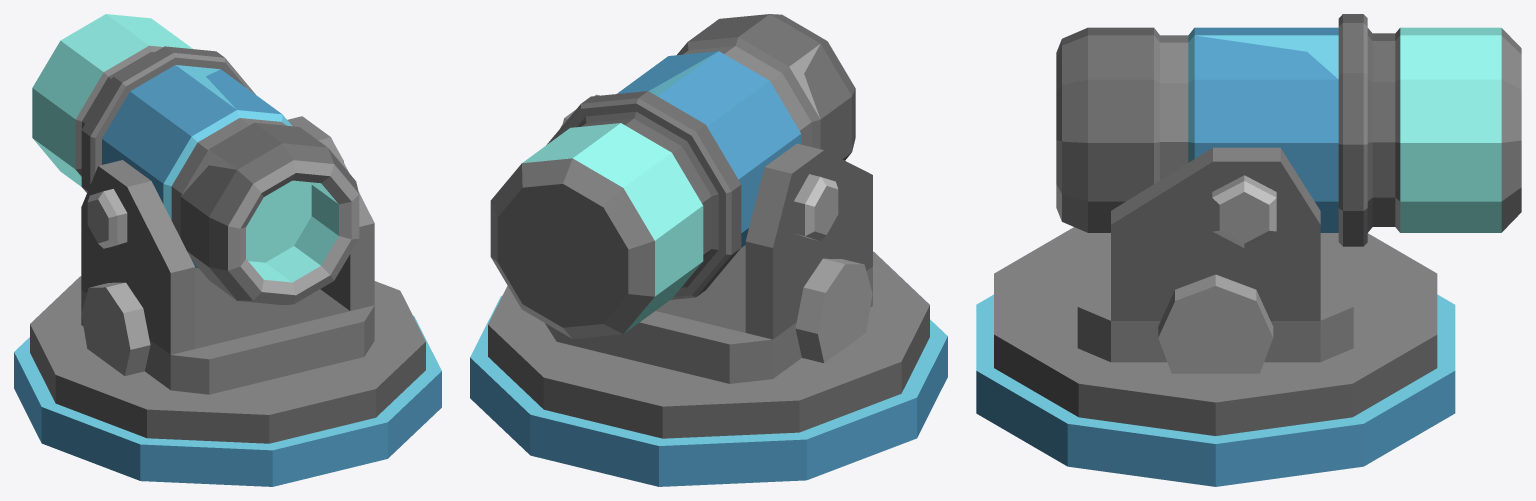
Rendered from tower_plasma_blue_1.fbx.
3 renders of one model, left to right at view 1: azimuth 30°, elevation 25°; view 2: azimuth 150°, elevation 25°; view 3: azimuth 270°, elevation 25°, orthographic. The views are drawn at different scales.
Parts seen in each view (by area): view 1: top_plasma_blue_1, tower_plasma_blue_1; view 2: top_plasma_blue_1, tower_plasma_blue_1; view 3: top_plasma_blue_1, tower_plasma_blue_1.
Boxes of the visible parts, bbox=[...] form: top_plasma_blue_1: bbox=[32, 14, 374, 394]; tower_plasma_blue_1: bbox=[14, 276, 441, 486]; top_plasma_blue_1: bbox=[490, 14, 872, 383]; tower_plasma_blue_1: bbox=[470, 251, 947, 486]; top_plasma_blue_1: bbox=[1056, 14, 1521, 373]; tower_plasma_blue_1: bbox=[976, 227, 1455, 486].
Size of the model in its own units: 142 by 111 by 154.
